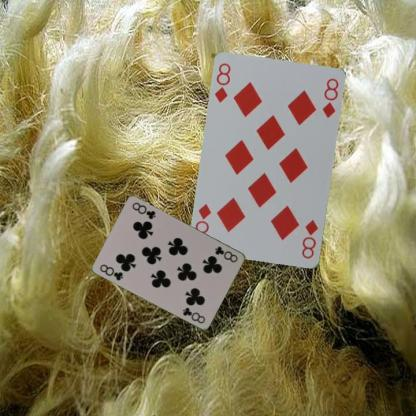8c: (98, 261, 124, 282), (213, 244, 239, 264)
8d: (300, 217, 320, 261), (212, 60, 232, 104)
